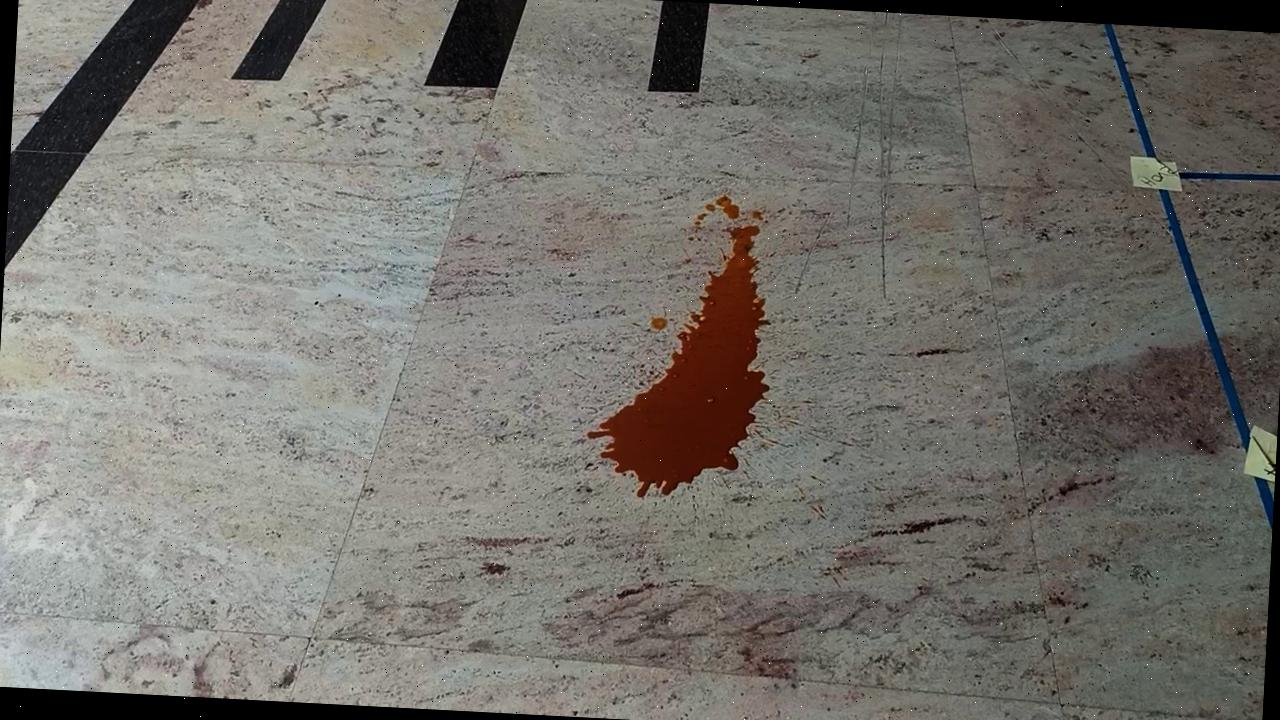dirty_floor: (578, 182, 777, 508)
